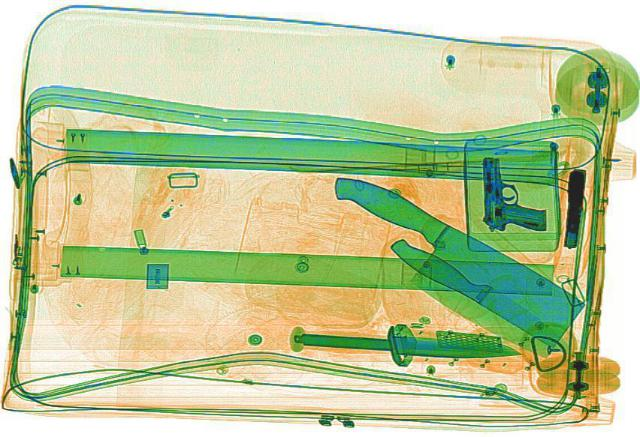Gun: (474, 153, 548, 232), (559, 167, 591, 246)
Knife: (284, 164, 610, 361), (380, 233, 588, 362), (296, 330, 522, 360)
